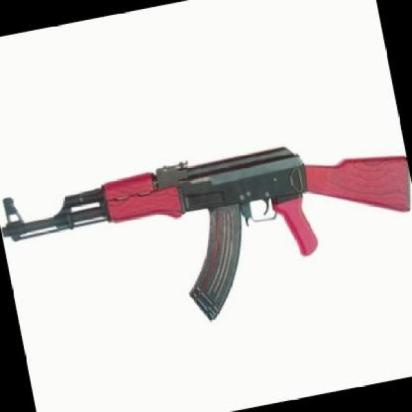Gun: (0, 88, 412, 362)
